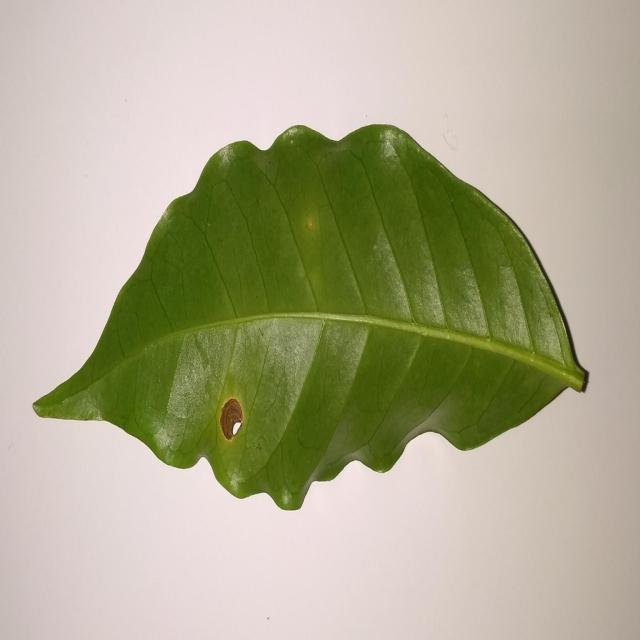Enfermedad-Mancha-de-hierro: (31, 125, 589, 513)
